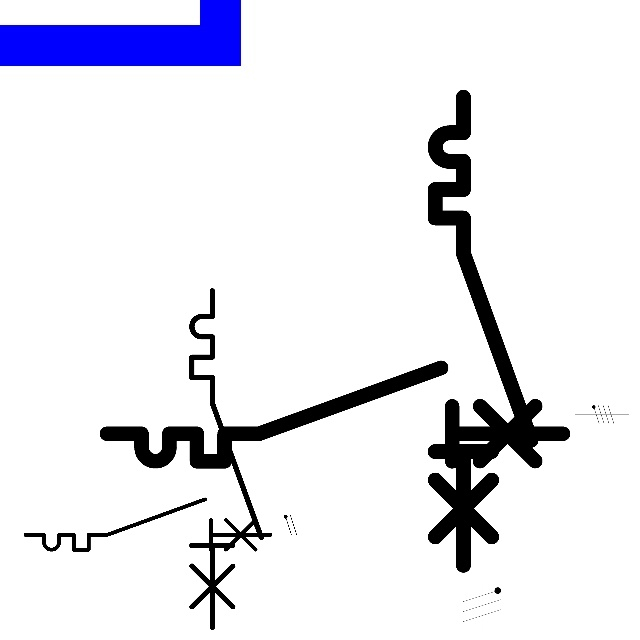interruptor_termomagnetico: (423, 85, 543, 577), (95, 356, 574, 473), (183, 282, 269, 636), (19, 493, 276, 556)
